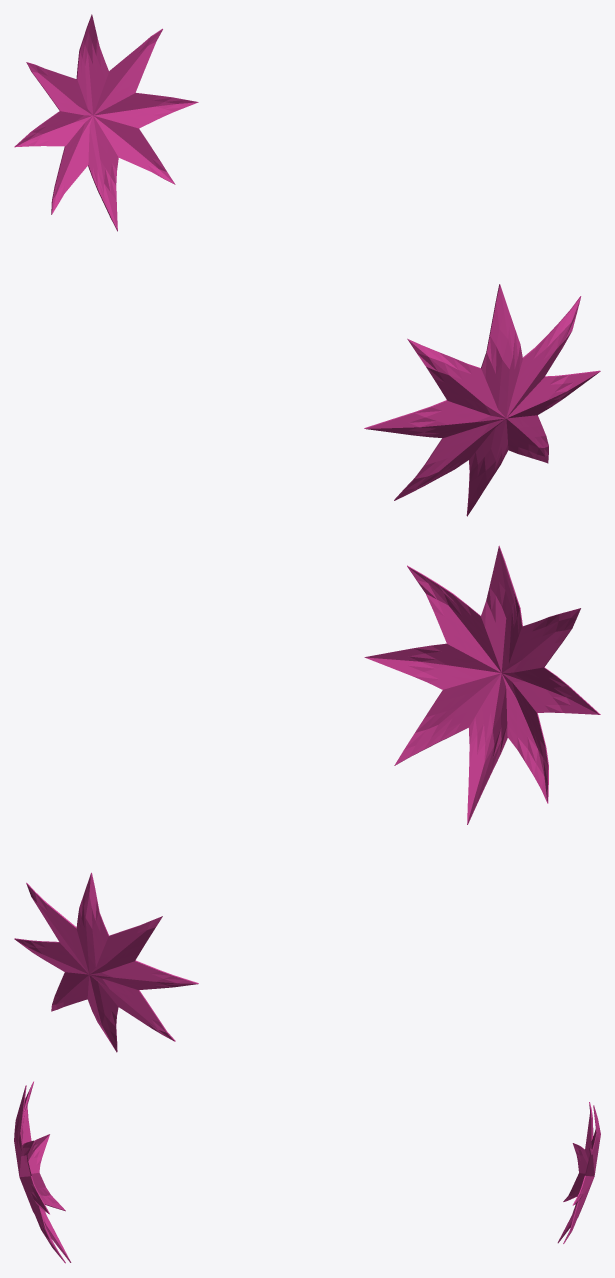
3 views of the same model, one above another, from view 1: azimuth 30°, elevation 25°; view 2: azimuth 150°, elevation 25°; view 3: azimuth 270°, elevation 25° (orthographic). The views are drawn at different scales.
Visible parts, largest first — view 1: 前后八芒折纸主星.001; view 2: 前后八芒折纸主星.001; view 3: 前后八芒折纸主星.001.
Boxes of the visible parts, <box> form: 前后八芒折纸主星.001: <box>14,14,600,516</box>; 前后八芒折纸主星.001: <box>14,545,600,1052</box>; 前后八芒折纸主星.001: <box>14,1081,600,1263</box>.
Size of the model in its own units: 0.6036 by 0.6245 by 1.86.
